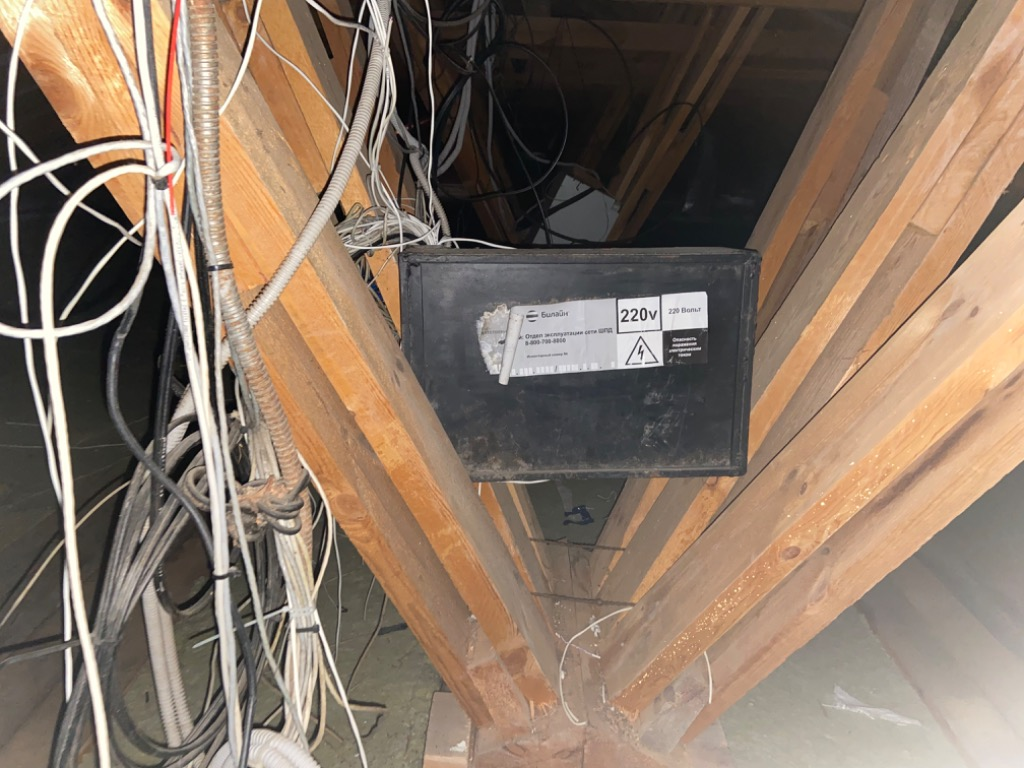shta-9m: (391, 248, 762, 487)
